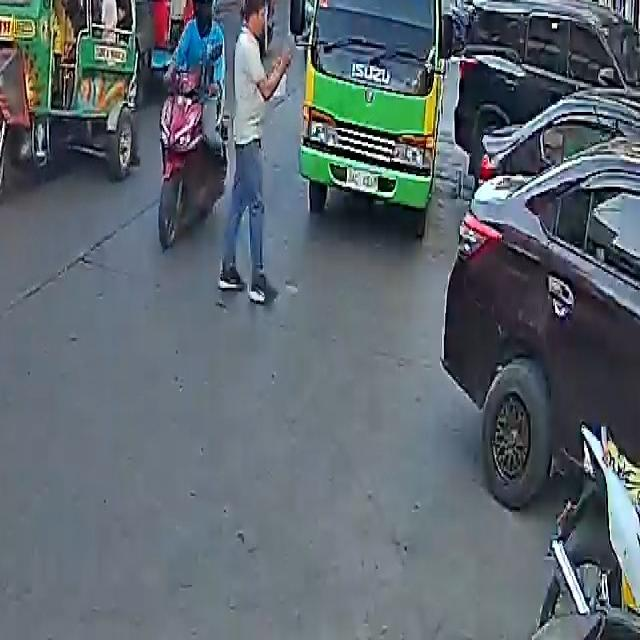car: (443, 151, 640, 530), (449, 0, 639, 188)
